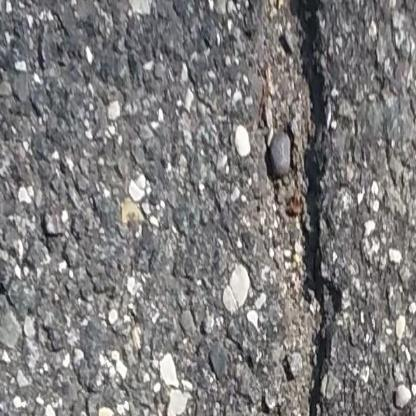Cracks: (246, 0, 342, 416)
